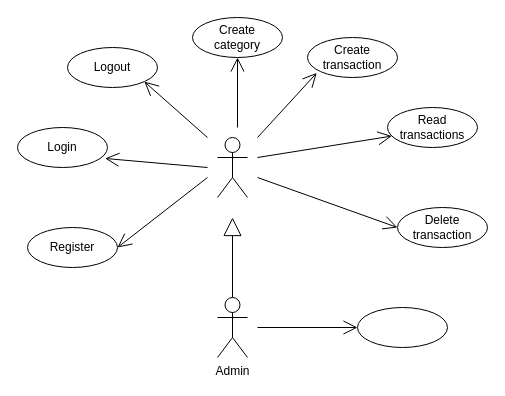
This 505x396 diagram has some shape labels left out. The shapes that lost their labels are listed below. From the top down, each one's box as (x1, y1, x2, y2) in pixels, then its label:
(216, 136, 248, 198): User
(356, 306, 448, 348): Read users
